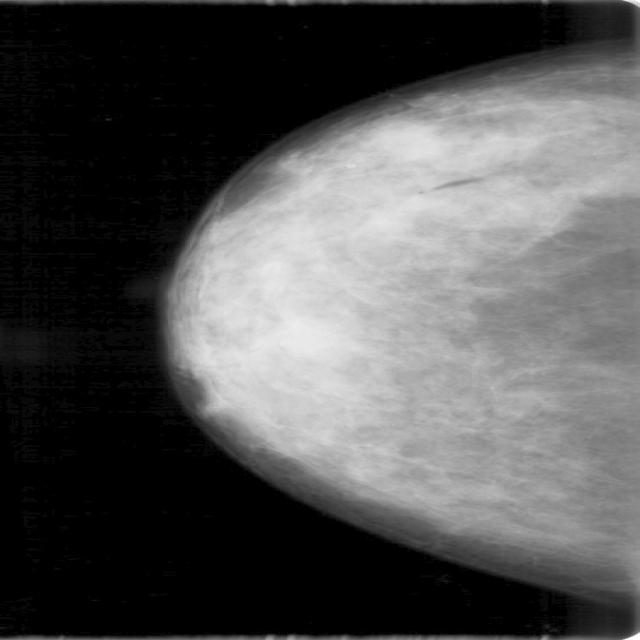tumour: (366, 118, 446, 162)
